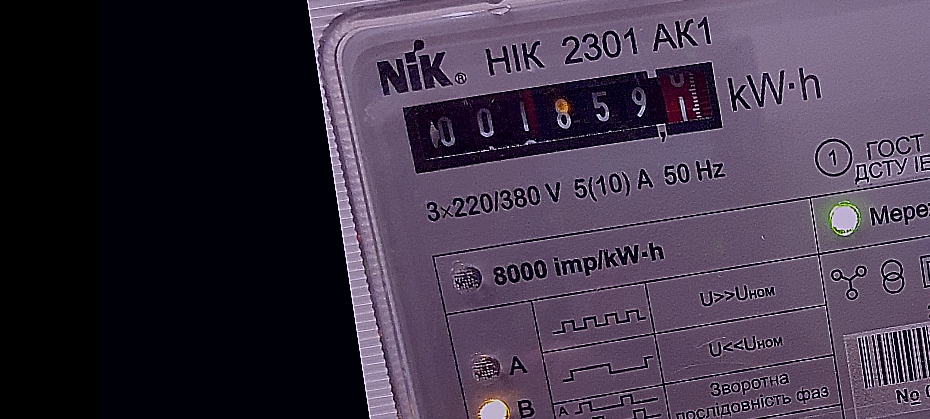0: (434, 111, 459, 149), (473, 103, 497, 139)
1: (516, 96, 532, 133), (675, 91, 691, 122)
5: (589, 86, 614, 124)
8: (551, 93, 576, 131)
9: (627, 82, 651, 119)
screen: (390, 46, 735, 185)
